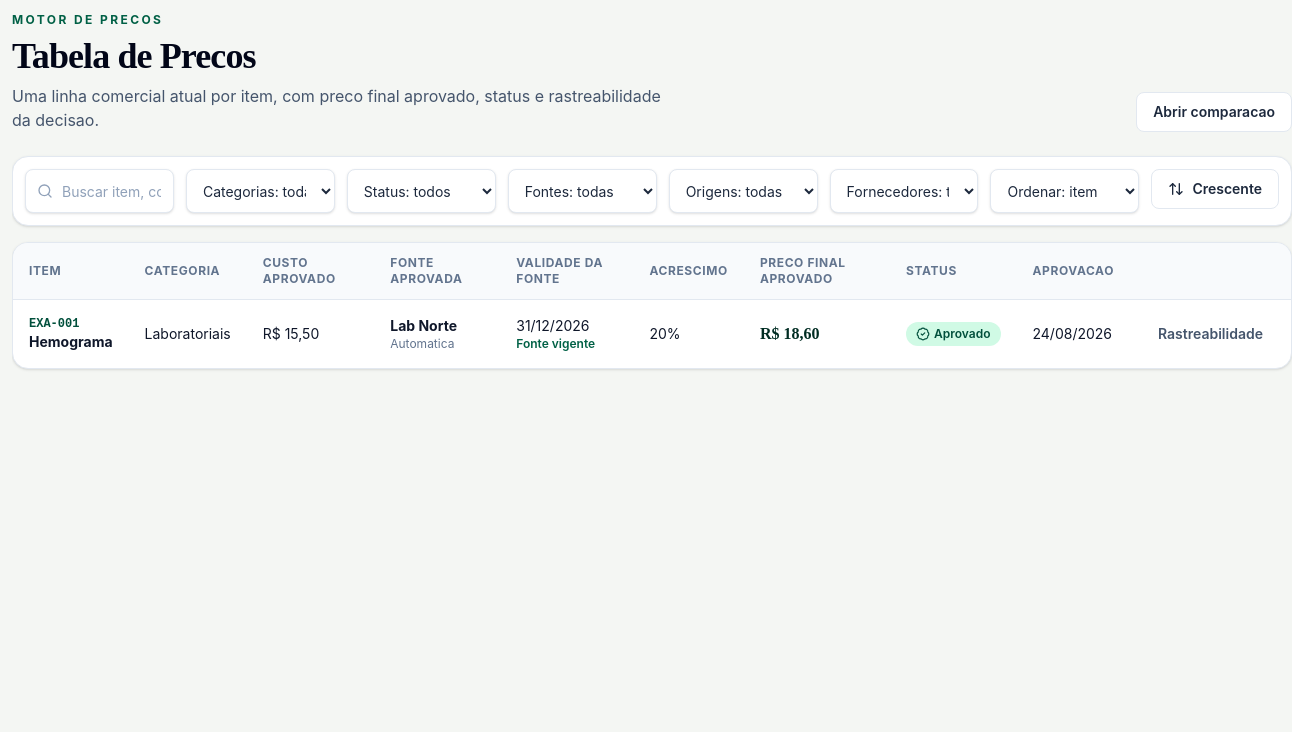
Test: PriceListPage › filtra por fonte sem confundir sugestoes com precos comerciais
This screenshot has width=1292, height=732.
Step 1. Select "Manual" in the 3rd dropdown named "Filtrar tabela por fonte" → (582, 191), box [508, 169, 657, 213]
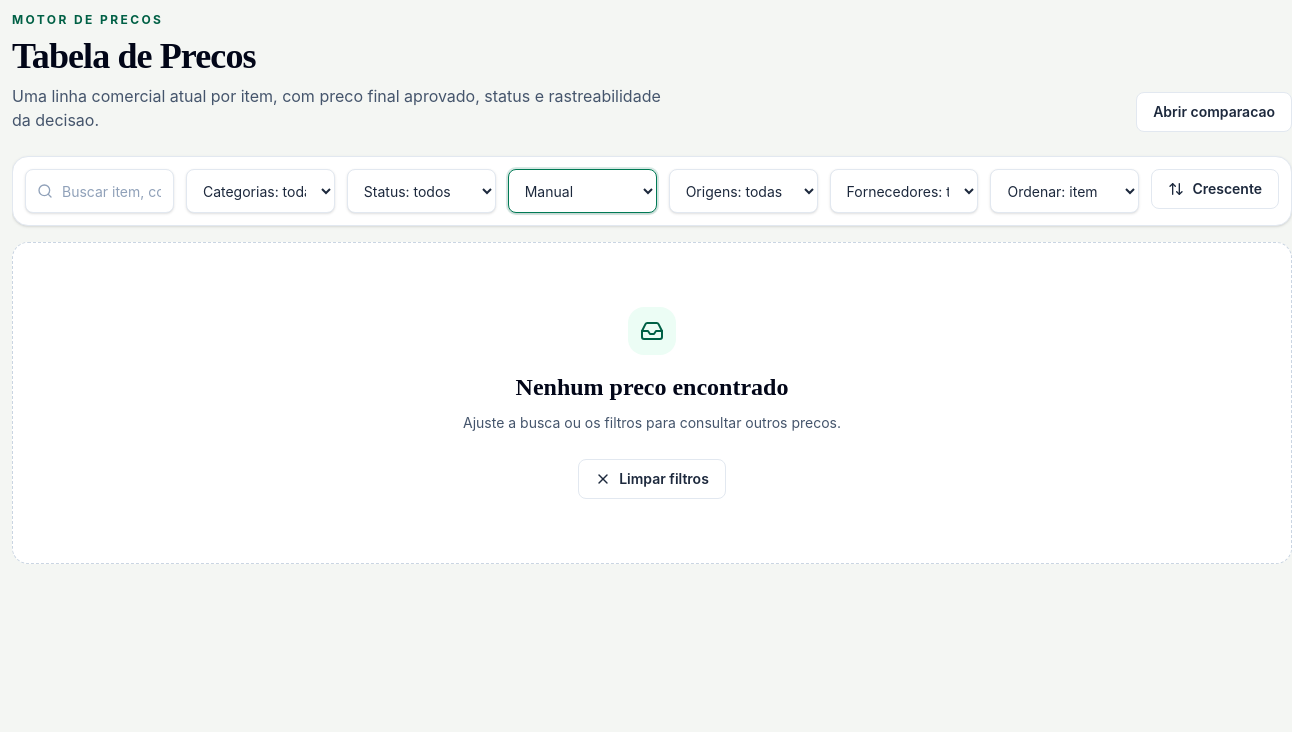
Expected: the heading "Nenhum preco encontrado" is shown, [516, 374, 788, 400]
